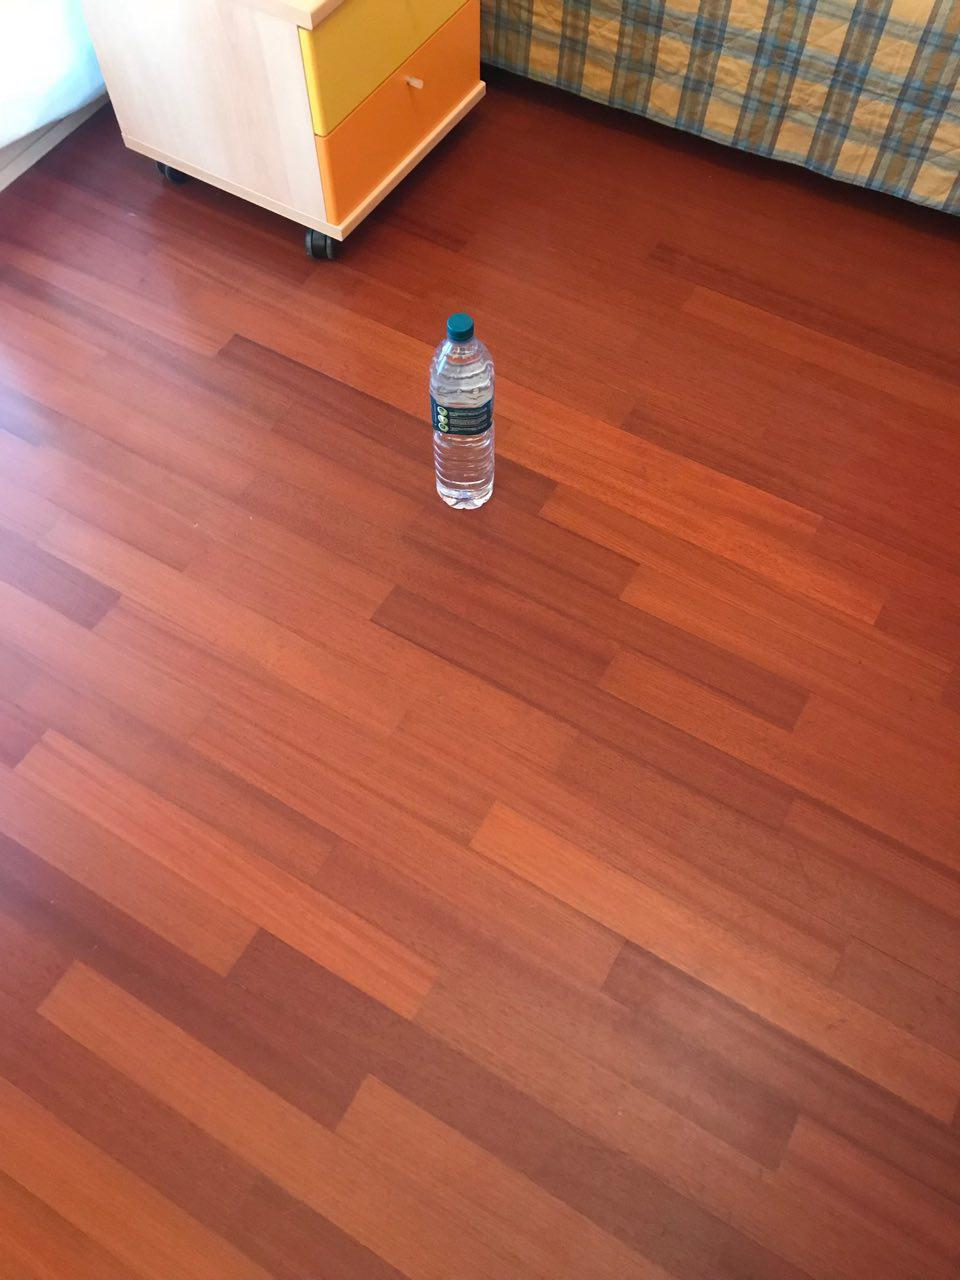san_bernardo: (428, 311, 495, 510)
